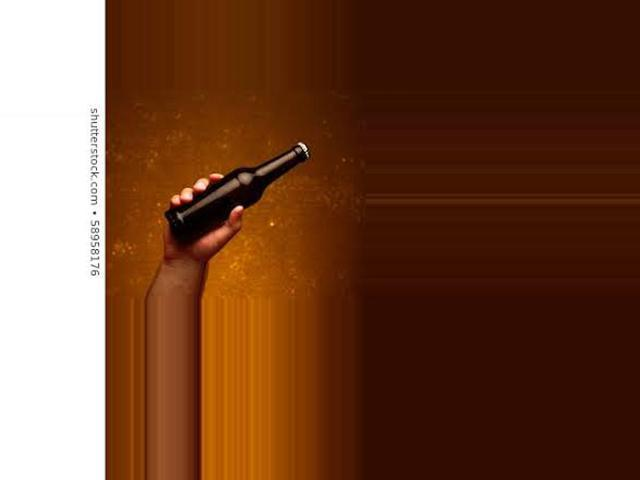beer: (164, 141, 310, 248)
